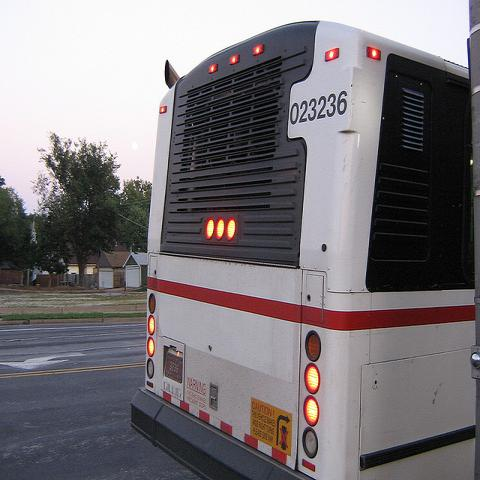bus: (130, 22, 478, 474)
